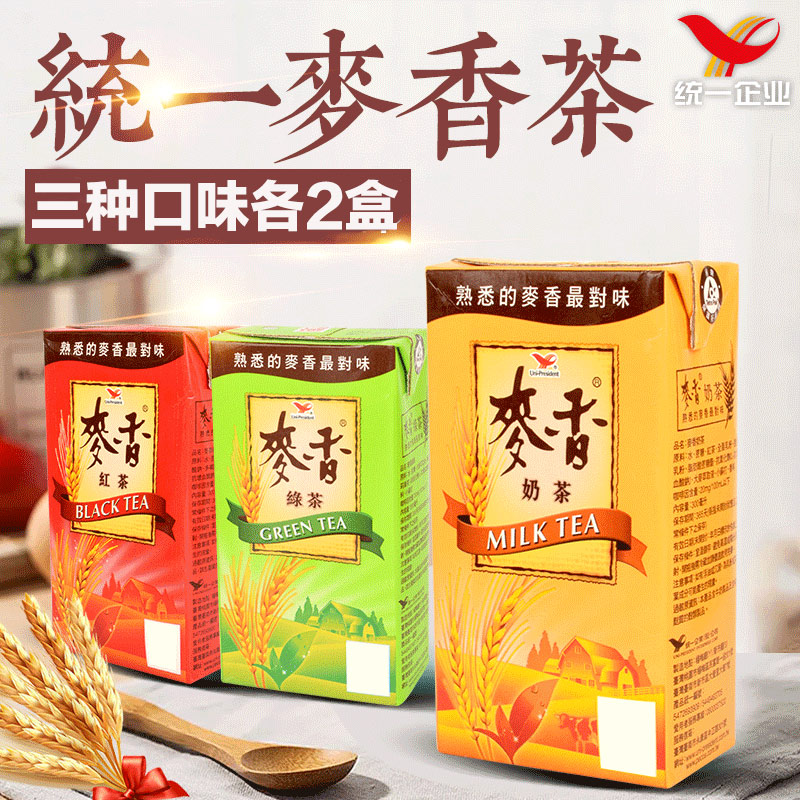milk tea: (422, 256, 744, 795)
